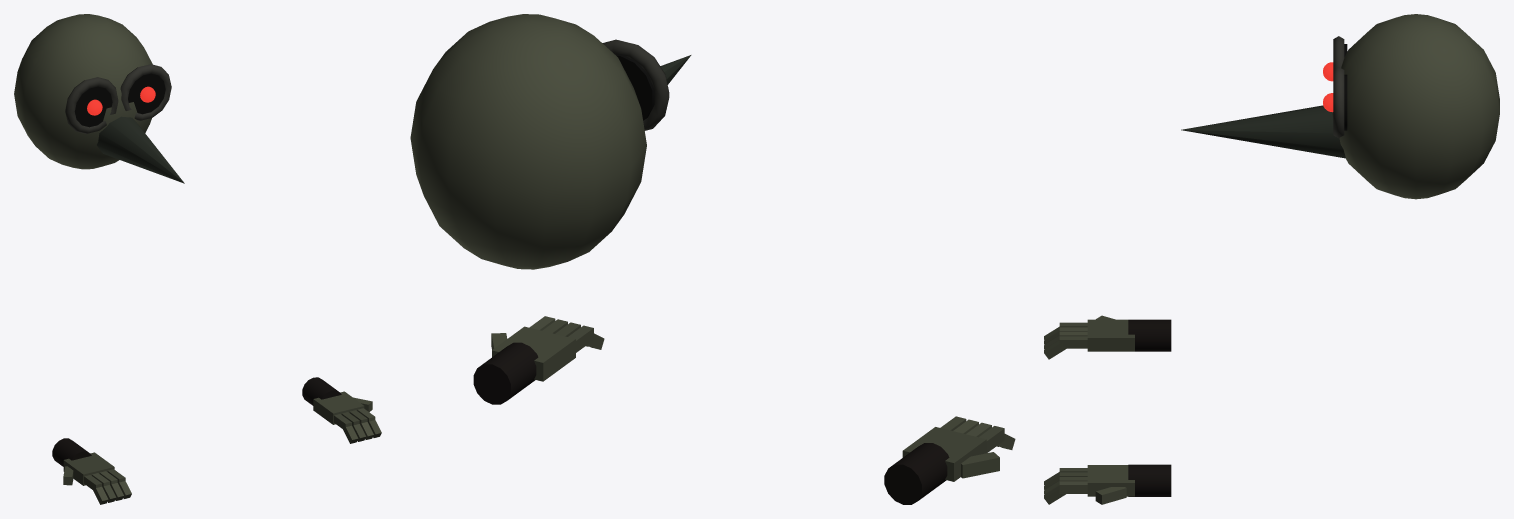
Rendered from entity2.glb.
3 renders of one model, left to right at view 1: azimuth 30°, elevation 25°; view 2: azimuth 150°, elevation 25°; view 3: azimuth 270°, elevation 25°, orthographic. The views are drawn at different scales.
Parts seen in each view (by area): view 1: Mask, HandR, HandL, Eyes; view 2: Mask, HandL, HandR; view 3: Mask, HandR, HandL.
Boxes of the visible parts, x1,y1,x2,y2 form: Mask: [14, 14, 184, 183]; HandR: [302, 377, 381, 443]; HandL: [52, 438, 131, 504]; Eyes: [87, 86, 155, 115]; Mask: [410, 14, 691, 269]; HandL: [884, 416, 1015, 504]; HandR: [473, 316, 604, 404]; Mask: [1181, 14, 1499, 199]; HandR: [1044, 464, 1171, 504]; HandL: [1044, 315, 1171, 359].
Size of the model in its own units: 1.98 by 2.07 by 2.12.
